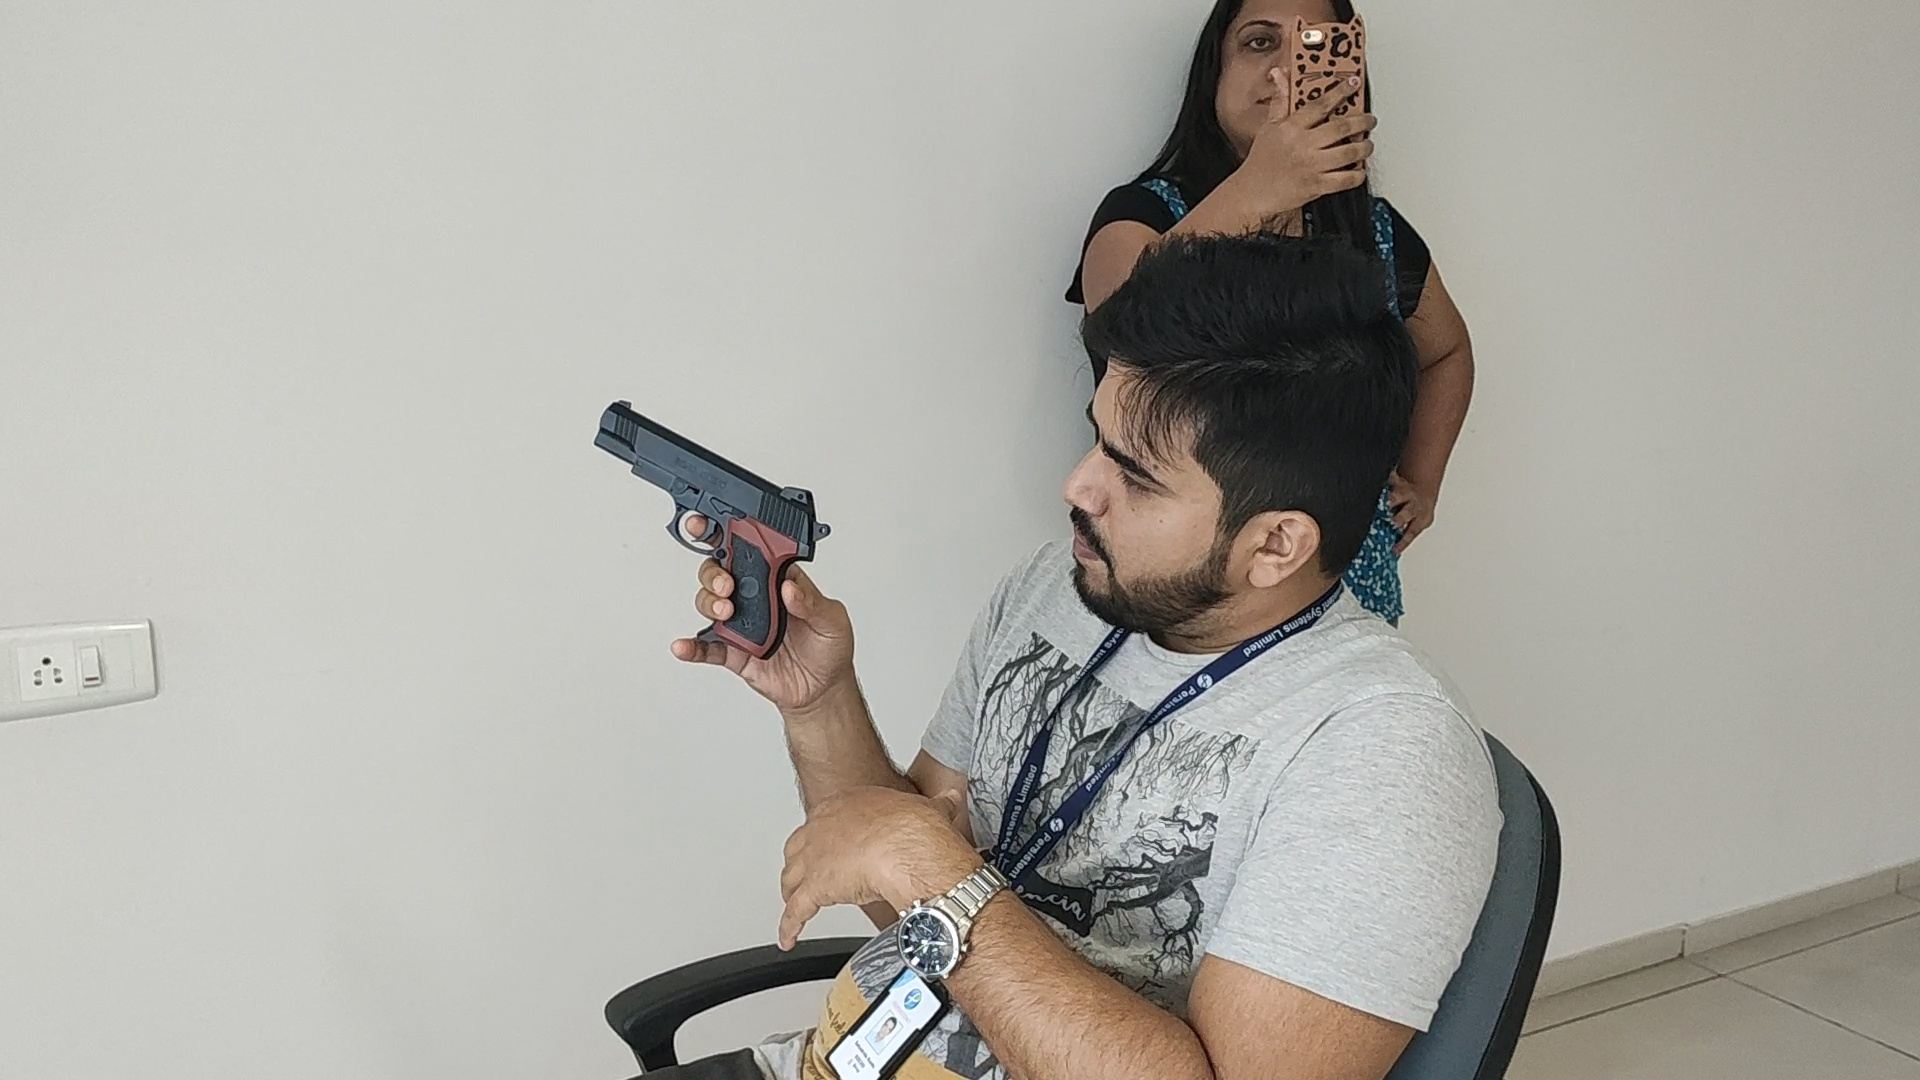gun: (593, 400, 832, 556)
